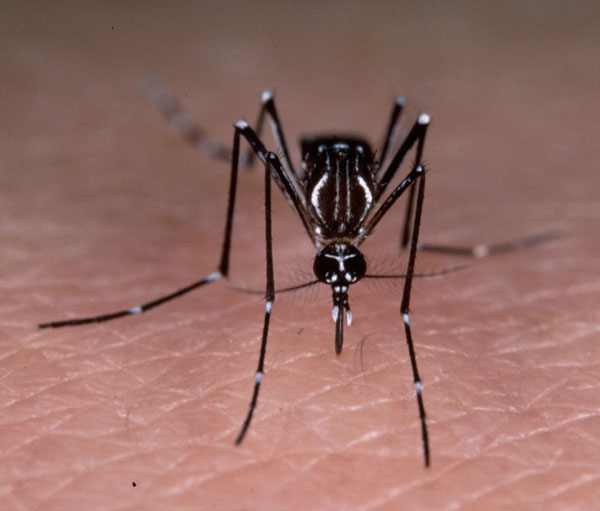dengue_mosquito: (139, 85, 433, 452)
